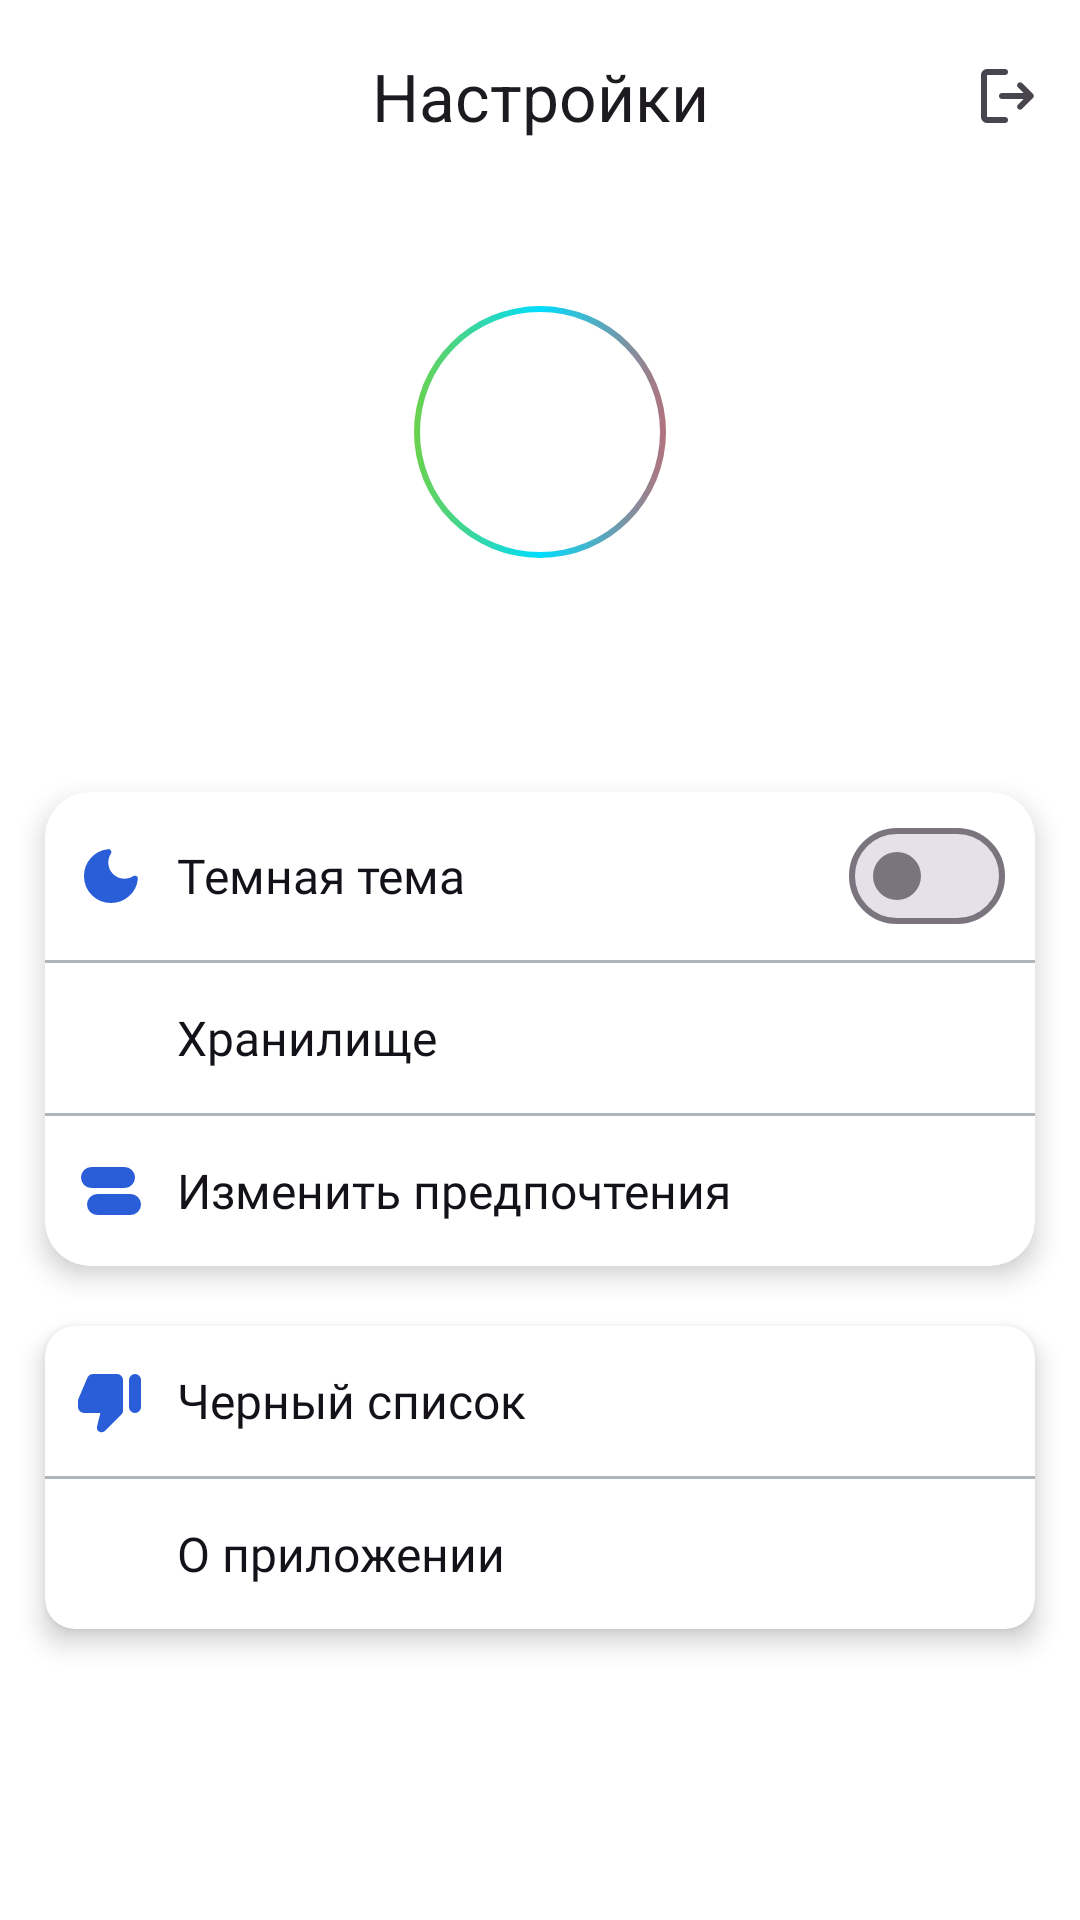

Screen size 1080 x 1920. Icon name, then its box in pixels as (x1, y1, x2, y2):
dislike: (78, 1374, 141, 1433)
mode: (84, 849, 138, 903)
